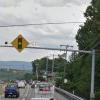Traffic light: (11, 27, 38, 63)
